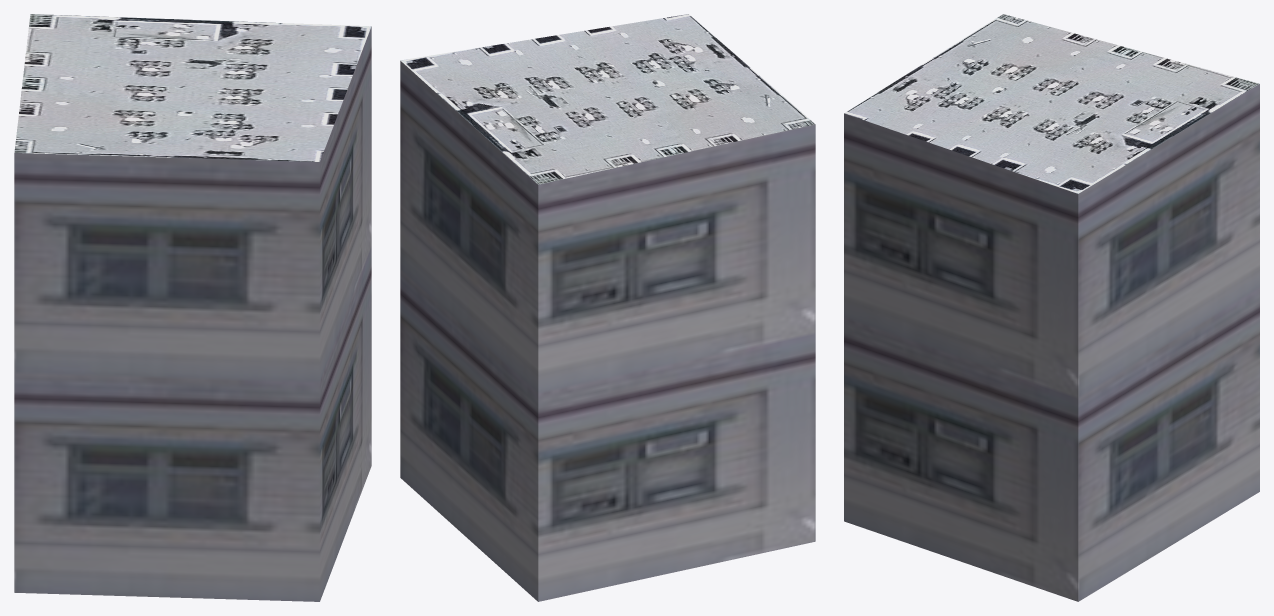
Rendered from ResTex__3374.fbx.
The picture shows the model from 3 angles, left to right: view 1: azimuth 30°, elevation 25°; view 2: azimuth 150°, elevation 25°; view 3: azimuth 270°, elevation 25°; orthographic projection. The views are drawn at different scales.
Visible parts, largest first — view 1: CityEngineMaterial_1_m, CityEngineMaterial_4_m; view 2: CityEngineMaterial_1_m, CityEngineMaterial_4_m; view 3: CityEngineMaterial_1_m, CityEngineMaterial_4_m.
Part boxes in pixels (bbox=[...]): CityEngineMaterial_1_m: bbox=[14, 26, 371, 601]; CityEngineMaterial_4_m: bbox=[14, 14, 371, 161]; CityEngineMaterial_1_m: bbox=[400, 61, 815, 601]; CityEngineMaterial_4_m: bbox=[400, 14, 815, 184]; CityEngineMaterial_1_m: bbox=[844, 84, 1259, 601]; CityEngineMaterial_4_m: bbox=[844, 14, 1259, 193].
Bounding box in the file's own units: 5.68 × 6 × 5.54.
Materials: 2 (2 with a texture image).
